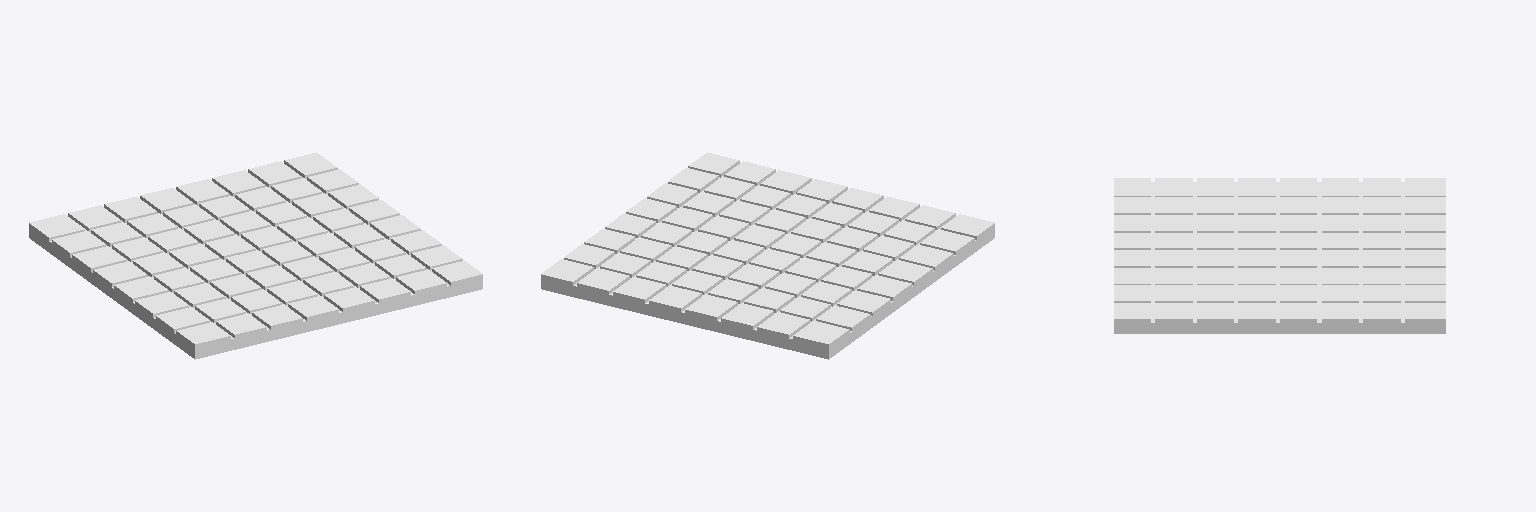
The model's file is podłoga1.obj.
3 views of the same model, side by side, from view 1: azimuth 30°, elevation 25°; view 2: azimuth 150°, elevation 25°; view 3: azimuth 270°, elevation 25° (orthographic).
Visible parts, largest first — view 1: object 1; view 2: object 1; view 3: object 1.
Boxes of the visible parts, <box> form: object 1: <box>29,152,482,359</box>; object 1: <box>541,152,994,359</box>; object 1: <box>1114,178,1445,333</box>.
Size of the model in its own units: 8 by 0.4 by 8.